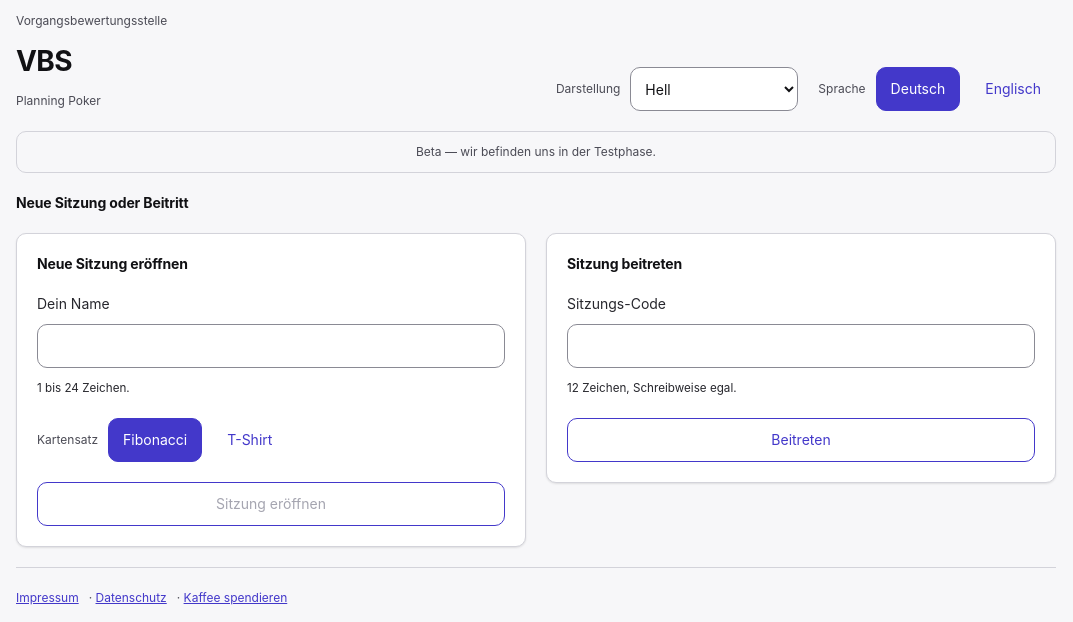
Test case: home screen › keeps the create button disabled until a nickname is entered
Expected: the button "Sitzung eröffnen" is disabled, [37,482,505,526]
Type "Ada" into the field labelled "Dein Name" at coordinates (271, 346), box [37,324,505,368]
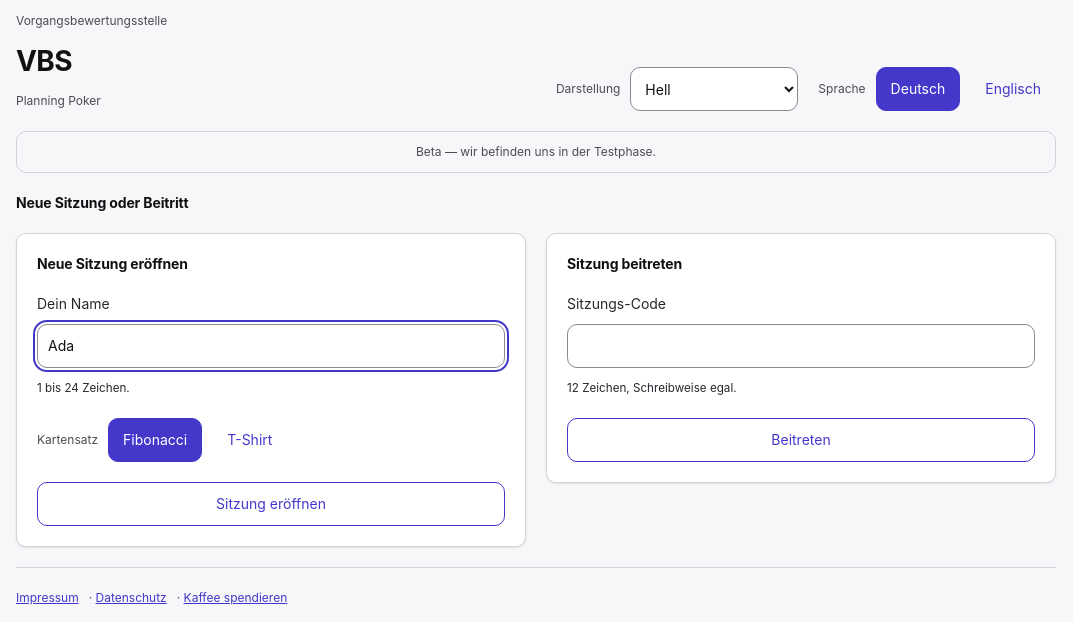
Expected: the button "Sitzung eröffnen" is enabled, [37,482,505,526]
